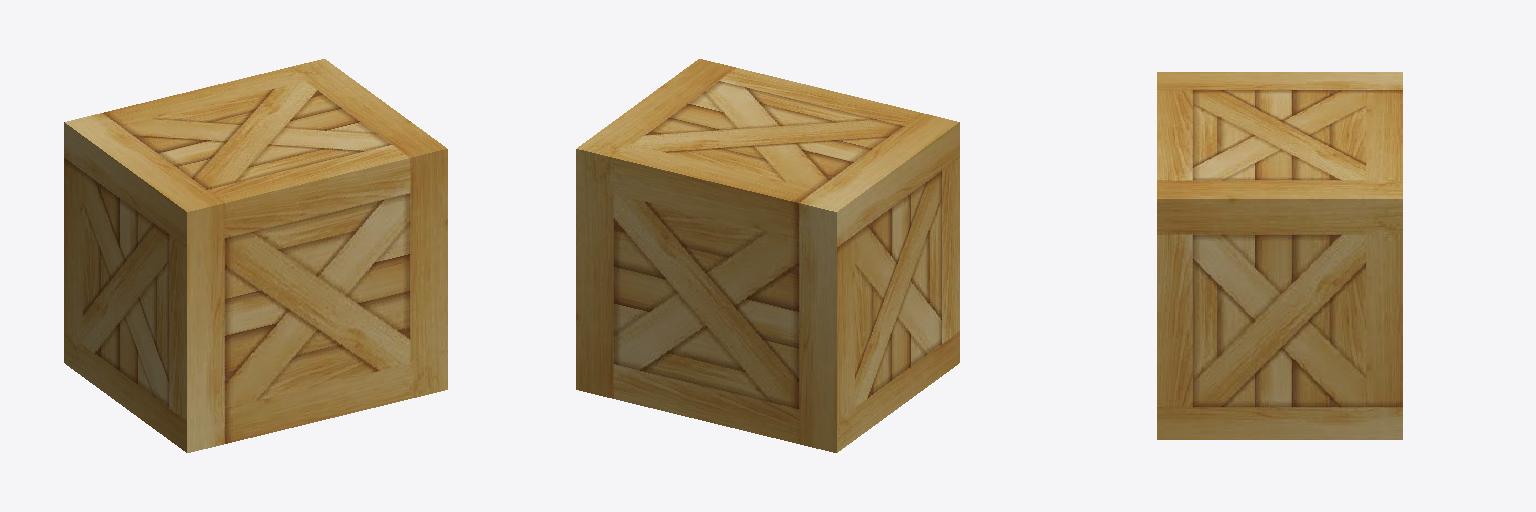
The picture shows the model from 3 angles: view 1: azimuth 30°, elevation 25°; view 2: azimuth 150°, elevation 25°; view 3: azimuth 270°, elevation 25°; orthographic projection.
Visible parts, largest first — view 1: caixa; view 2: caixa; view 3: caixa.
Boxes of the visible parts, <box> form: caixa: <box>64,59,447,452</box>; caixa: <box>576,59,959,452</box>; caixa: <box>1157,72,1402,439</box>.
Bounding box in the file's own units: 1.18 × 1.04 × 0.9663.
Materials: 1 (1 with a texture image).